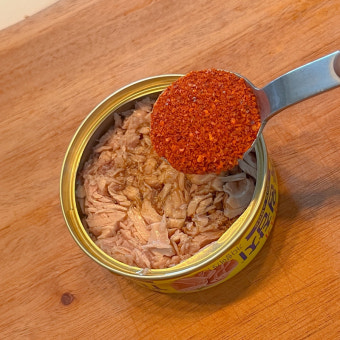paper: (57, 71, 284, 300)
